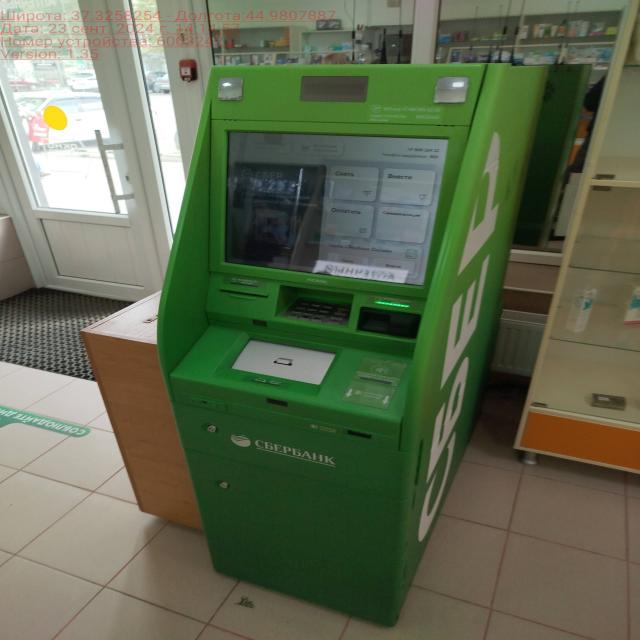bank: (158, 58, 541, 623)
